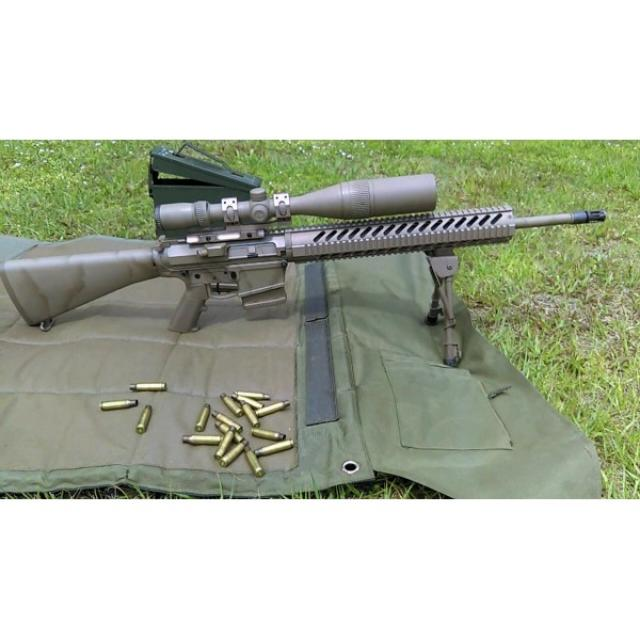Rifle: (0, 175, 607, 335)
